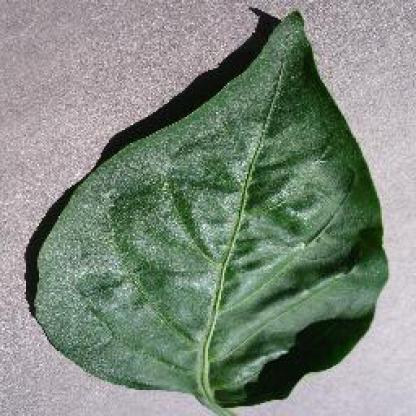good leaf: (106, 82, 345, 369)
